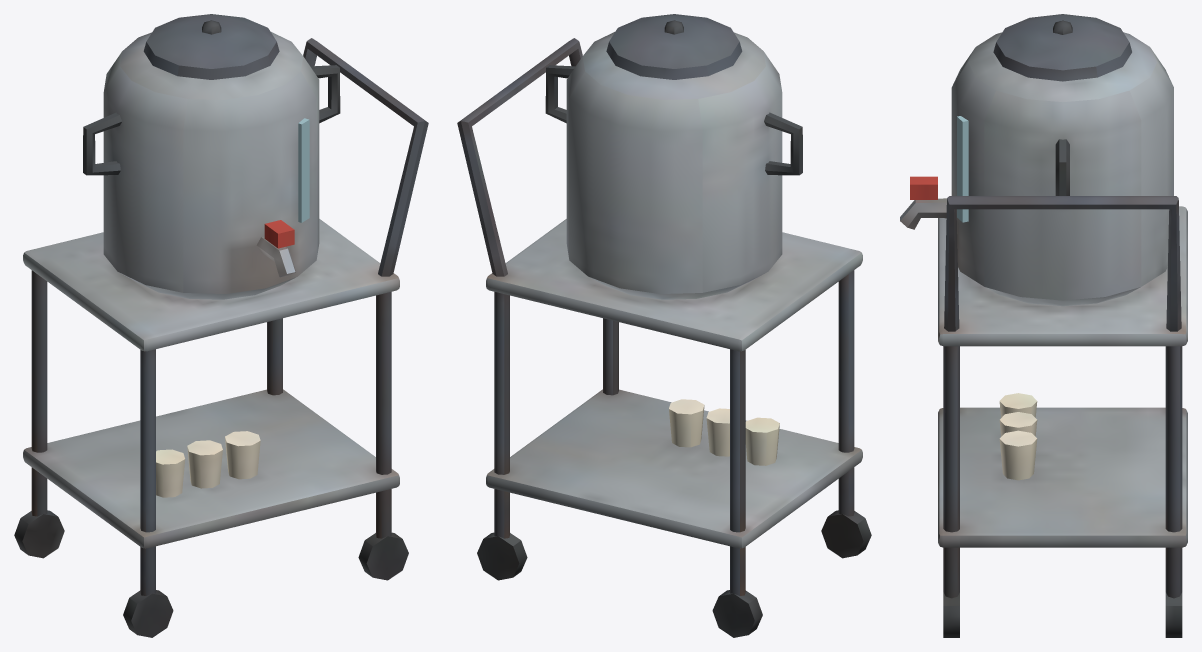
The model's file is water_urn.glb.
The picture shows the model from 3 angles, left to right: view 1: azimuth 30°, elevation 25°; view 2: azimuth 150°, elevation 25°; view 3: azimuth 270°, elevation 25°; orthographic projection. The views are drawn at different scales.
Parts seen in each view (by area): view 1: water_urn; view 2: water_urn; view 3: water_urn.
Part boxes in pixels (box(x1,y1,x2,y2)): water_urn: box(14, 14, 428, 637); water_urn: box(457, 14, 871, 637); water_urn: box(900, 14, 1187, 637).
Bounding box in the file's own units: 0.6381 × 1.11 × 0.5179.
6 materials, 5 textured.
